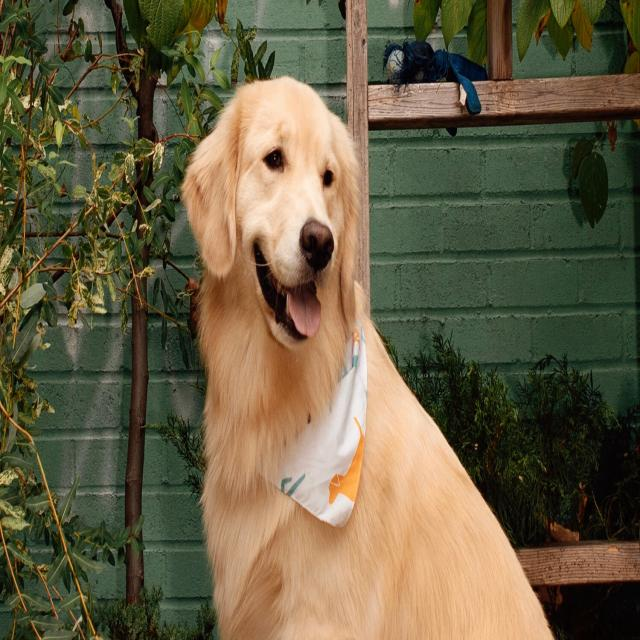dog: (164, 83, 640, 640)
